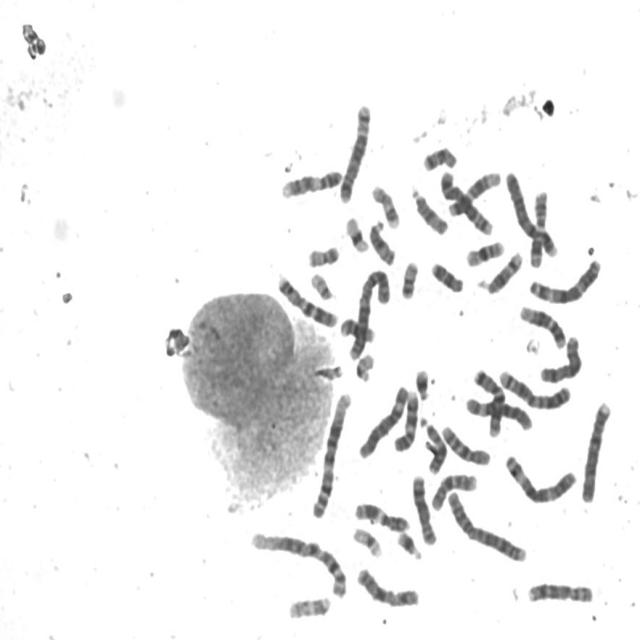A1: (246, 524, 350, 600), (308, 386, 354, 520)
A2: (443, 486, 528, 564), (344, 264, 392, 362)
A3: (501, 449, 579, 505), (524, 252, 604, 305)
B4: (502, 165, 560, 259), (577, 395, 613, 504)
B5: (436, 165, 494, 237), (335, 97, 372, 205)
C10: (437, 420, 492, 467), (427, 468, 479, 512)
C11: (351, 497, 412, 533), (526, 184, 550, 269)
C12: (443, 165, 503, 217), (516, 299, 568, 350)
C6: (355, 380, 411, 460), (461, 391, 535, 433)
C7: (274, 270, 339, 329), (469, 362, 506, 438)
C8: (408, 469, 438, 546), (523, 577, 595, 605)
C9: (276, 163, 344, 200), (390, 384, 420, 454)
D13: (496, 369, 576, 416), (417, 413, 448, 476)
D14: (480, 246, 524, 296)
D15: (407, 181, 450, 237), (365, 214, 398, 266)
E16: (462, 235, 506, 268), (336, 316, 378, 343)
E17: (367, 179, 401, 230), (284, 590, 332, 621)
E18: (427, 256, 465, 294), (418, 140, 458, 172)
F19: (341, 210, 371, 254), (348, 523, 384, 559)
F20: (303, 240, 341, 268), (397, 256, 420, 300)
G21: (393, 526, 424, 561), (411, 363, 432, 401)
G22: (306, 267, 335, 301), (352, 349, 375, 383)
X: (353, 563, 421, 610), (536, 330, 584, 384)
